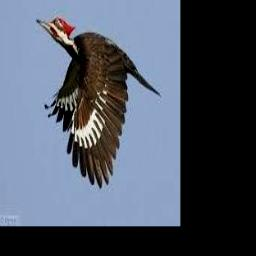Woodpecker: (37, 16, 161, 188)
